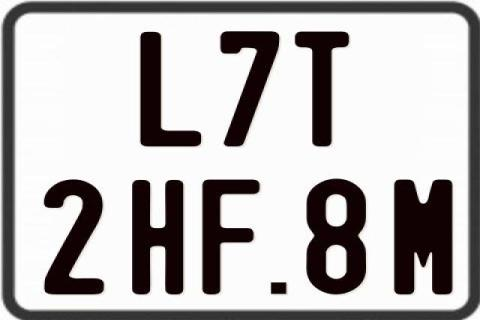0: (218, 29, 282, 149), (43, 178, 108, 296), (305, 179, 366, 297)
F: (199, 180, 258, 300)
H: (131, 180, 183, 294)
L: (140, 32, 204, 151)
M: (393, 177, 455, 293)
T: (295, 29, 351, 148)
